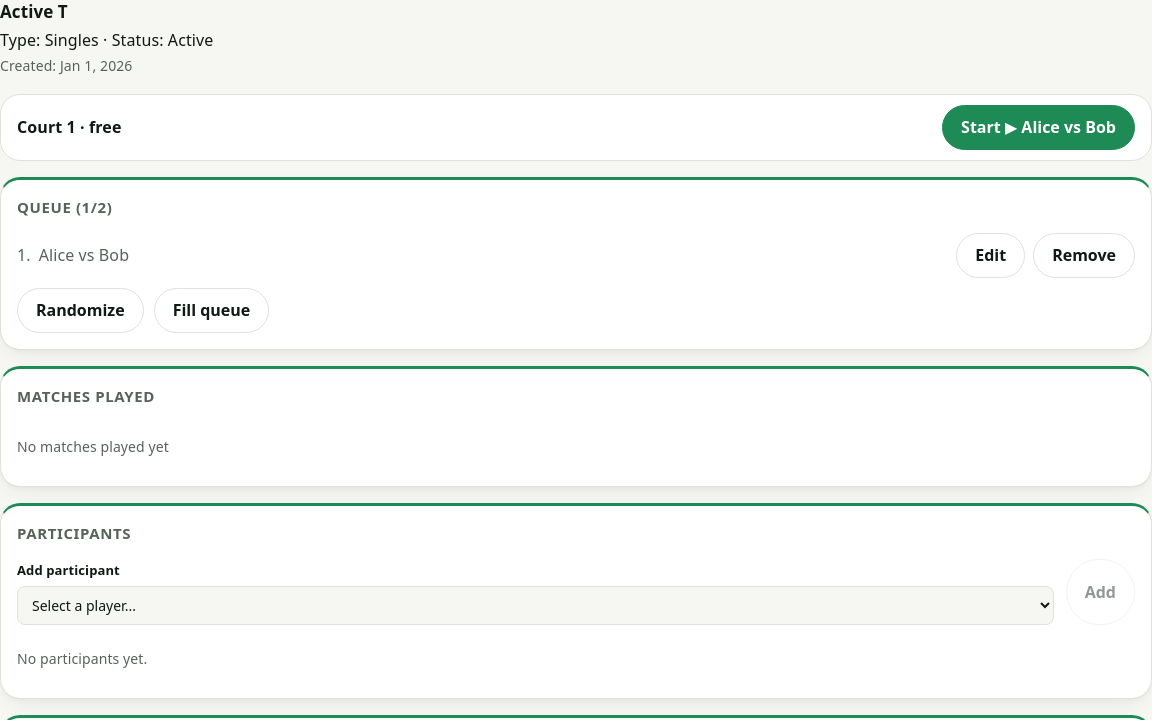
Test: TournamentDetail: Queue entry inline edit › opens the Edit queue popup on Edit and closes it via Done editing
Click the button with aria-label "Edit 1. Alice vs Bob": (991, 256) x1=956 y1=233 x2=1025 y2=278
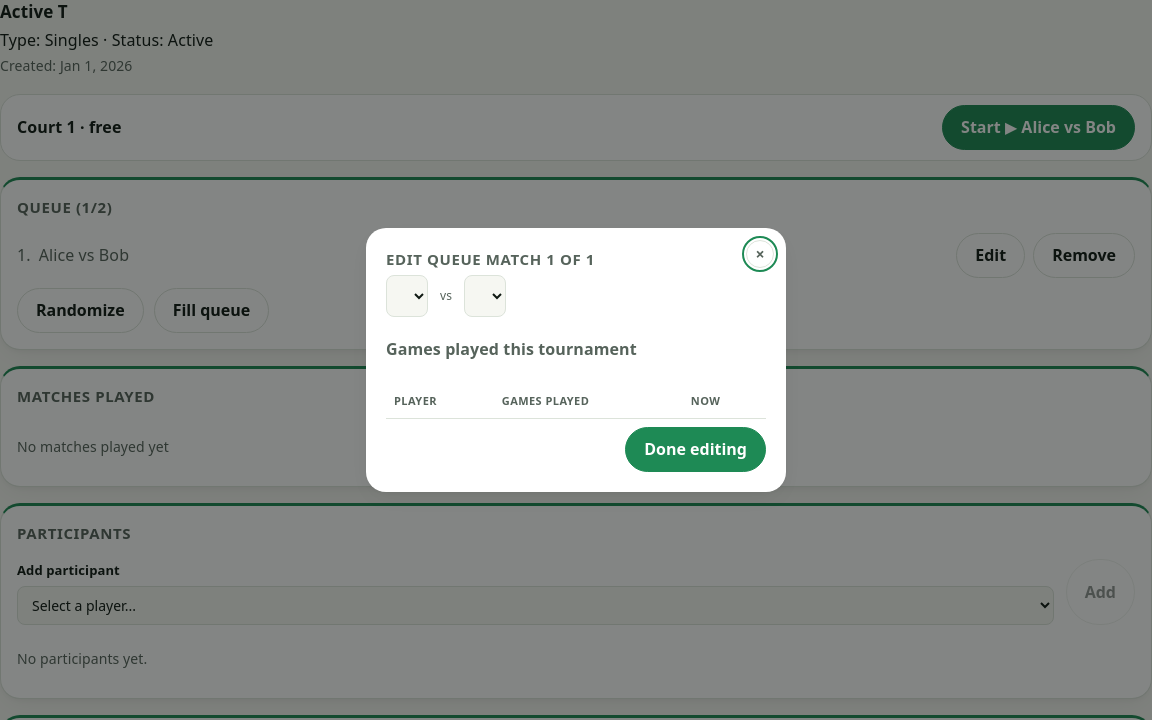
Now the heading "Edit queue match 1 of 1" is shown, box x1=386 y1=249 x2=595 y2=269
Click the button "Done editing": (696, 450) x1=625 y1=427 x2=766 y2=472
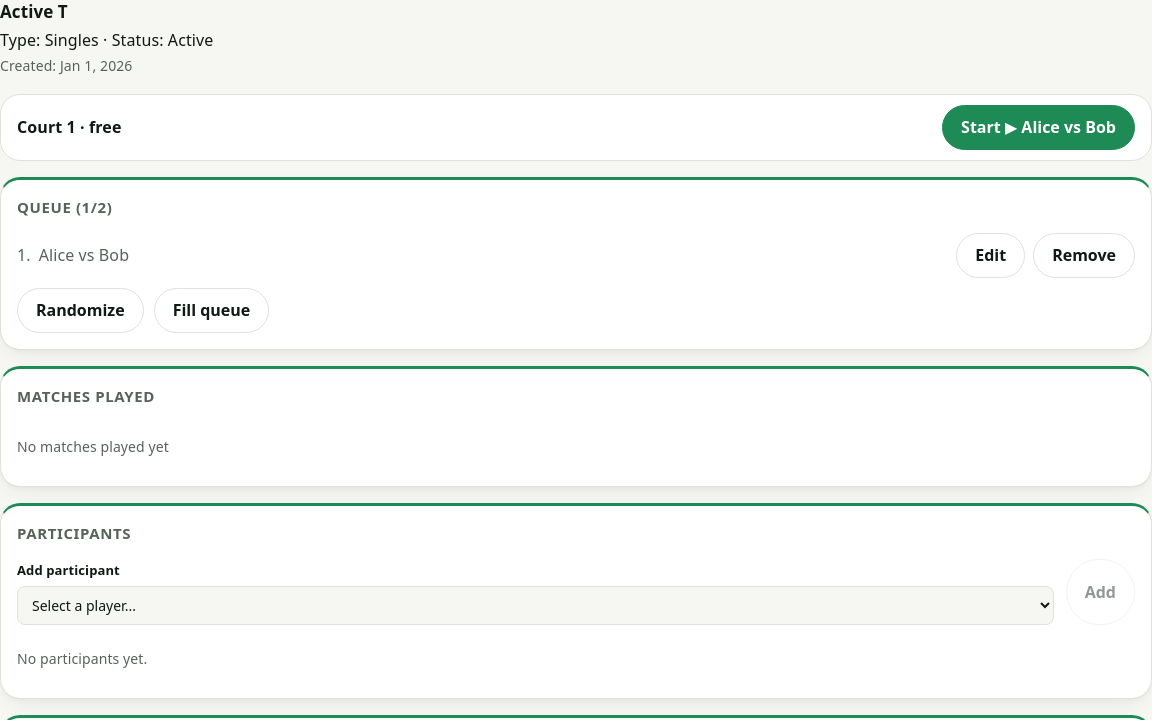
Now the heading "Edit queue match 1 of 1" is gone
